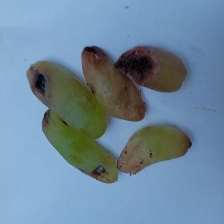grapes: (43, 3, 215, 181)
